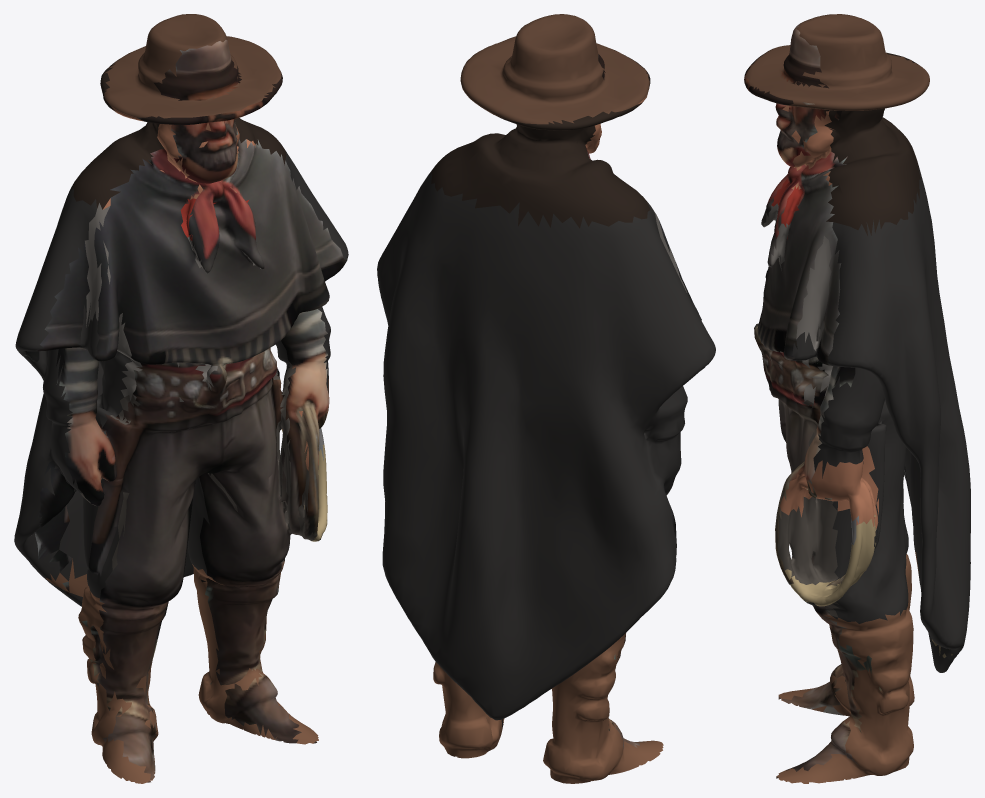
The model's file is gaucho_zenon.glb.
3 renders of one model, left to right at view 1: azimuth 30°, elevation 25°; view 2: azimuth 150°, elevation 25°; view 3: azimuth 270°, elevation 25°, orthographic.
Parts seen in each view (by area): view 1: ZenonHunyuan; view 2: ZenonHunyuan; view 3: ZenonHunyuan.
Boxes of the visible parts, <box> form: ZenonHunyuan: <box>14,14,348,783</box>; ZenonHunyuan: <box>377,14,715,783</box>; ZenonHunyuan: <box>744,14,970,783</box>.
Size of the model in its own units: 0.7618 by 1.59 by 0.4624.
Materials: 1 (1 with a texture image).
